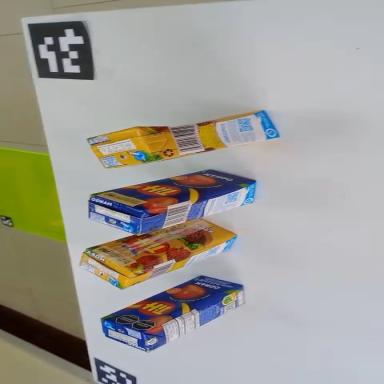HIT-MANGO: (98, 254, 251, 366), (84, 151, 262, 247)
HIT-MORA: (76, 199, 240, 300), (87, 105, 280, 171)
cara_F: (101, 256, 244, 347), (90, 150, 257, 225), (88, 200, 237, 284)
